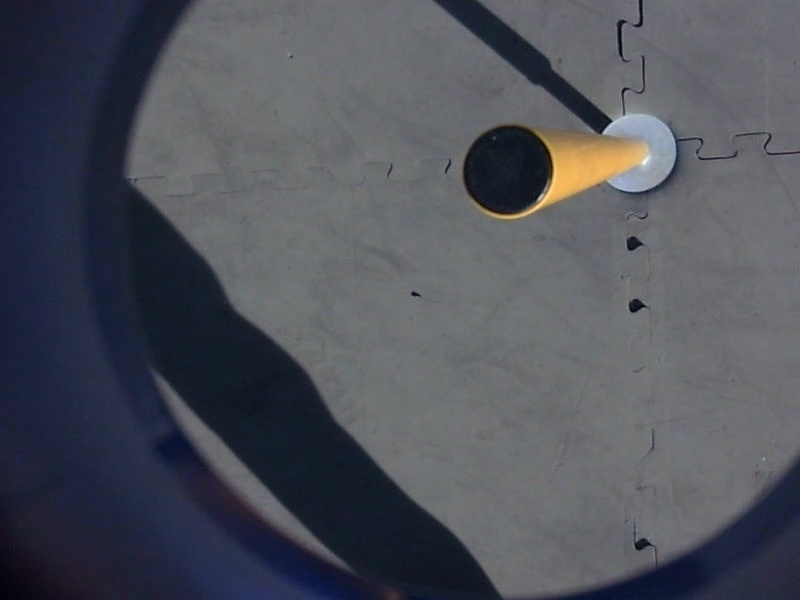tip: (450, 116, 566, 229)
